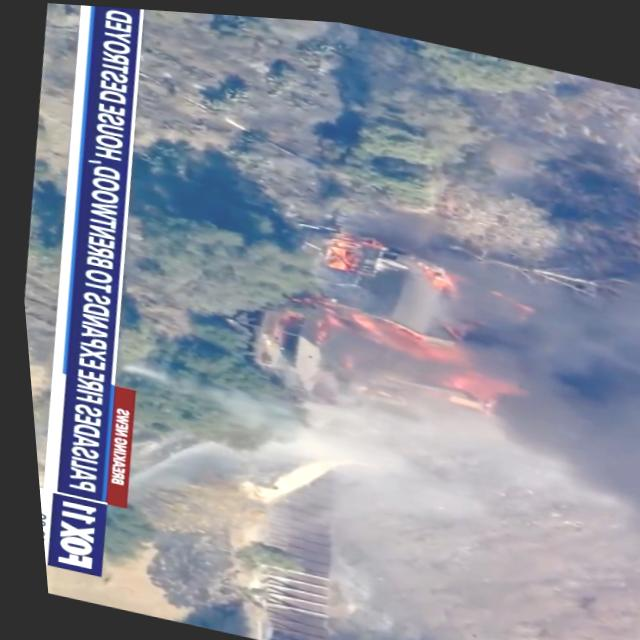Smoke: (409, 243, 640, 492)
